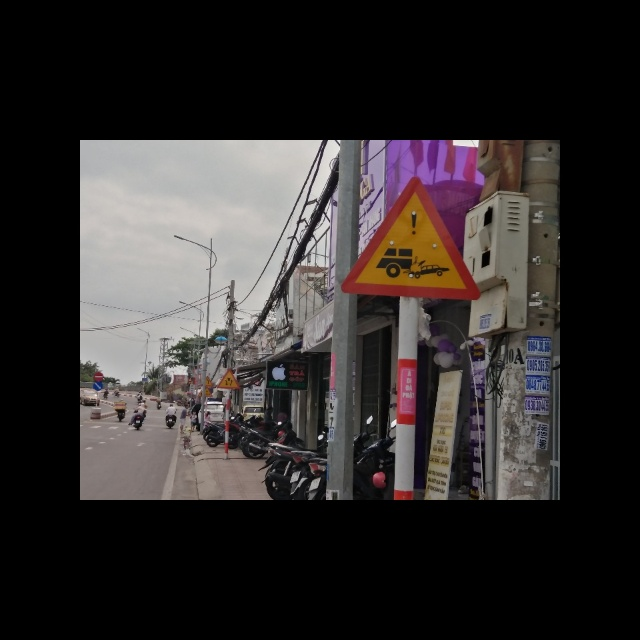Đoạn đường hay xảy ra tai nạn: (340, 179, 484, 301)
Đường đôi: (218, 369, 241, 390)
